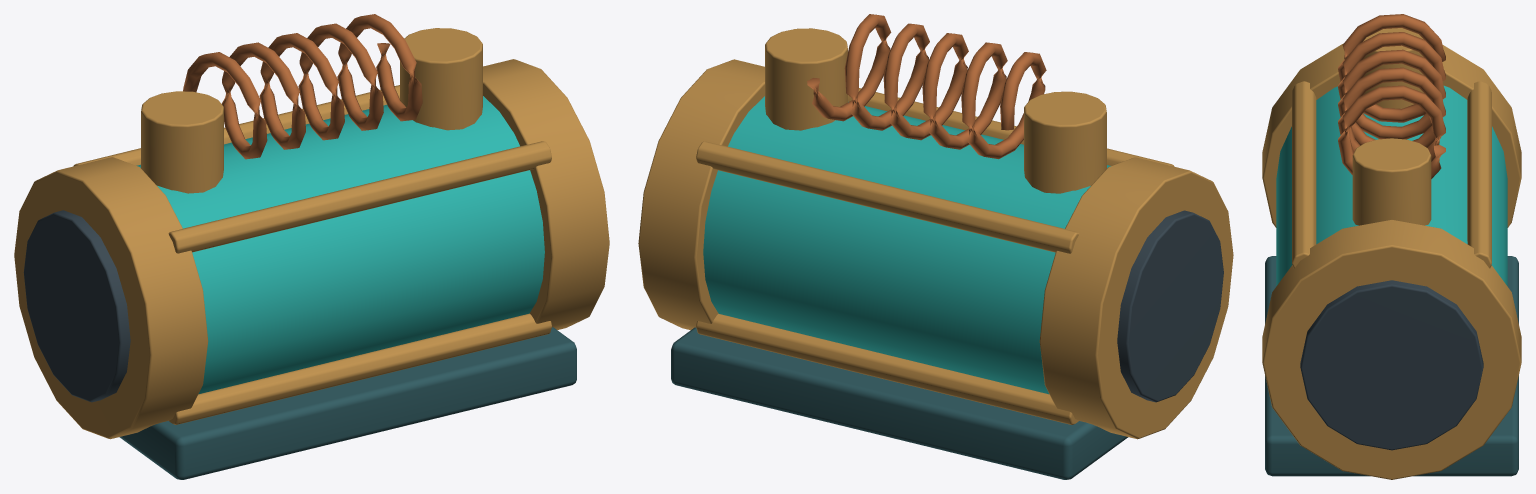
Rendered from part_power.glb.
The picture shows the model from 3 angles, left to right: view 1: azimuth 30°, elevation 25°; view 2: azimuth 150°, elevation 25°; view 3: azimuth 270°, elevation 25°; orthographic projection. The views are drawn at different scales.
Visible parts, largest first — view 1: SM_part_power; view 2: SM_part_power; view 3: SM_part_power.
Boxes of the visible parts, bbox=[...] form: SM_part_power: bbox=[14, 14, 609, 479]; SM_part_power: bbox=[638, 14, 1233, 479]; SM_part_power: bbox=[1262, 14, 1521, 479].
Bounding box in the file's own units: 0.3714 × 0.2584 × 0.184.
